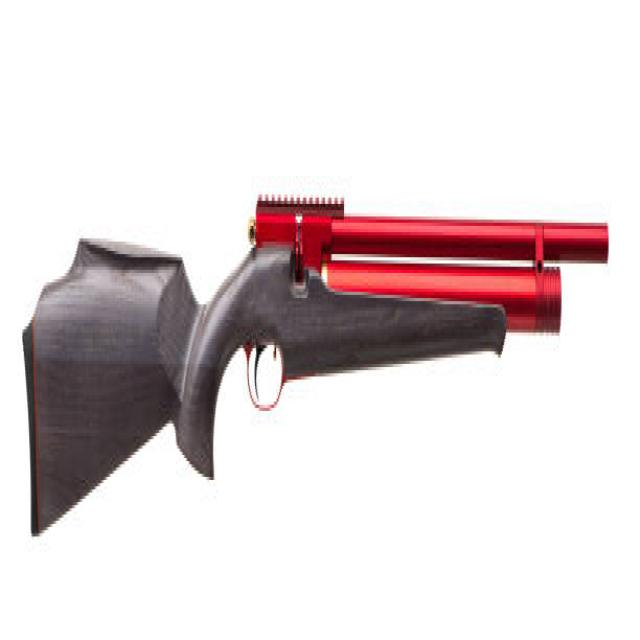rifle: (22, 192, 612, 550)
